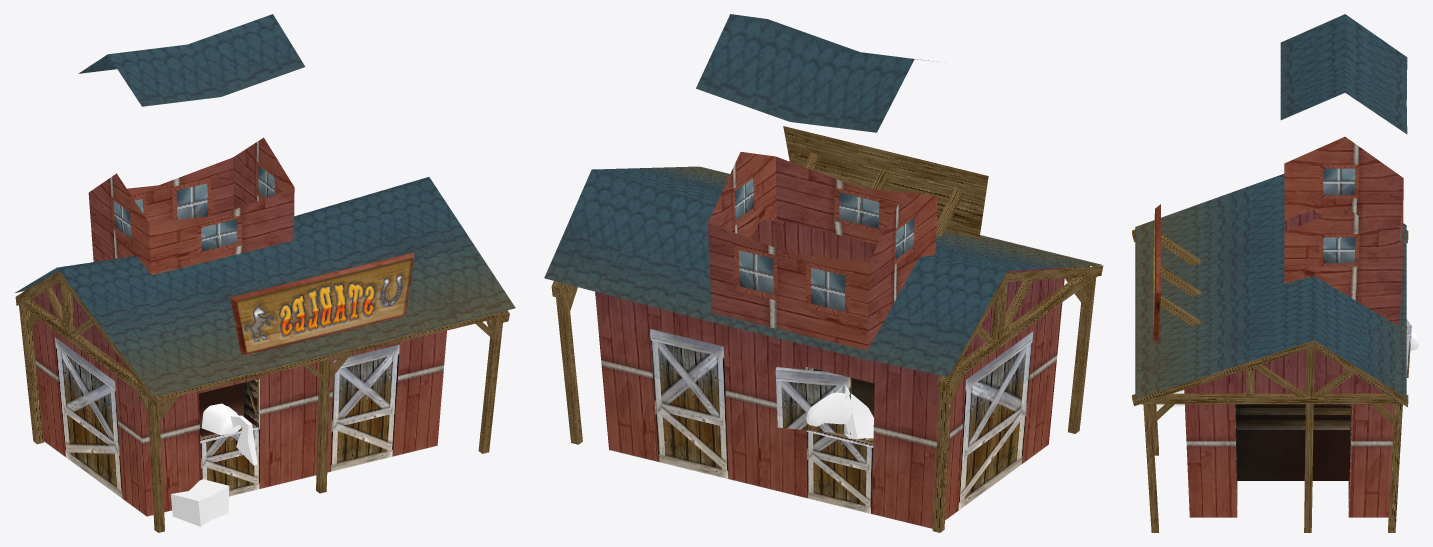
3 views of the same model, side by side, from view 1: azimuth 30°, elevation 25°; view 2: azimuth 150°, elevation 25°; view 3: azimuth 270°, elevation 25° (orthographic). The views are drawn at different scales.
Parts seen in each view (by area): view 1: roof, walls, walls_top, wood, door_sign, roof_small, door, door_barn, windows, hay_bail, insides, horse_butt; view 2: walls, roof, walls_top, wood, roof_small, door, door_barn, windows, door_open, horse, insides; view 3: roof, walls_top, walls, wood, roof_small, insides, windows, door_sign.
Boxes of the visible parts, left/top/right/bottom form: roof: left=15, top=177, right=515, bottom=396; walls: left=31, top=283, right=446, bottom=516; walls_top: left=88, top=137, right=294, bottom=275; wood: left=15, top=271, right=509, bottom=532; door_sign: left=230, top=252, right=414, bottom=356; roof_small: left=78, top=14, right=305, bottom=106; door: left=200, top=344, right=399, bottom=496; door_barn: left=55, top=337, right=122, bottom=498; windows: left=113, top=165, right=274, bottom=251; hay_bail: left=170, top=479, right=229, bottom=526; insides: left=199, top=379, right=259, bottom=443; horse_butt: left=201, top=403, right=257, bottom=465; walls: left=595, top=220, right=1065, bottom=528; roof: left=544, top=166, right=1103, bottom=376; walls_top: left=708, top=152, right=937, bottom=354; wood: left=551, top=126, right=1103, bottom=532; roof_small: left=696, top=14, right=936, bottom=132; door: left=649, top=329, right=873, bottom=513; door_barn: left=958, top=331, right=1033, bottom=510; windows: left=735, top=178, right=914, bottom=311; door_open: left=775, top=367, right=851, bottom=434; horse: left=806, top=385, right=873, bottom=439; insides: left=806, top=367, right=874, bottom=447; roof: left=1135, top=174, right=1406, bottom=399; walls_top: left=1284, top=136, right=1403, bottom=325; walls: left=1184, top=210, right=1394, bottom=517; wood: left=1132, top=219, right=1408, bottom=532; roof_small: left=1280, top=14, right=1407, bottom=134; insides: left=1235, top=404, right=1352, bottom=510; windows: left=1323, top=168, right=1401, bottom=263; door_sign: left=1153, top=204, right=1160, bottom=344.
Size of the model in its own units: 622 by 629 by 425.
Materials: 14 (11 with a texture image).
